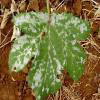Squash Powdery mildew leaf: (7, 9, 92, 99)
